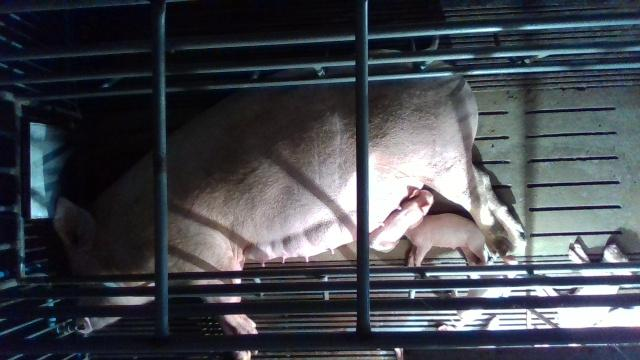piglet: (538, 240, 631, 328), (404, 213, 491, 265), (368, 186, 433, 255), (452, 257, 519, 322)
sow-sleep-lactate: (56, 37, 524, 360)
